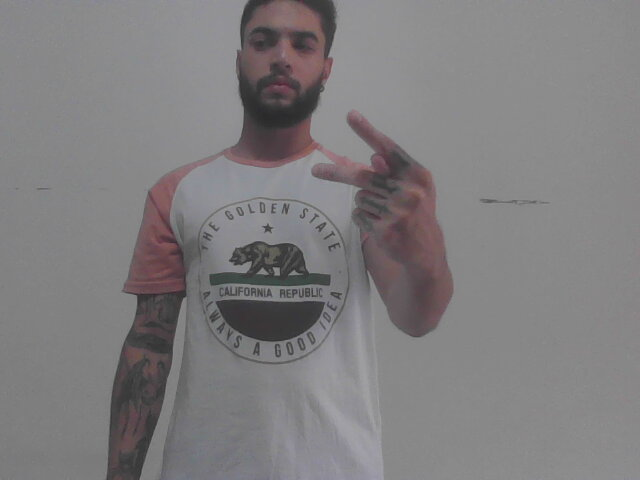h: (308, 104, 448, 268)
